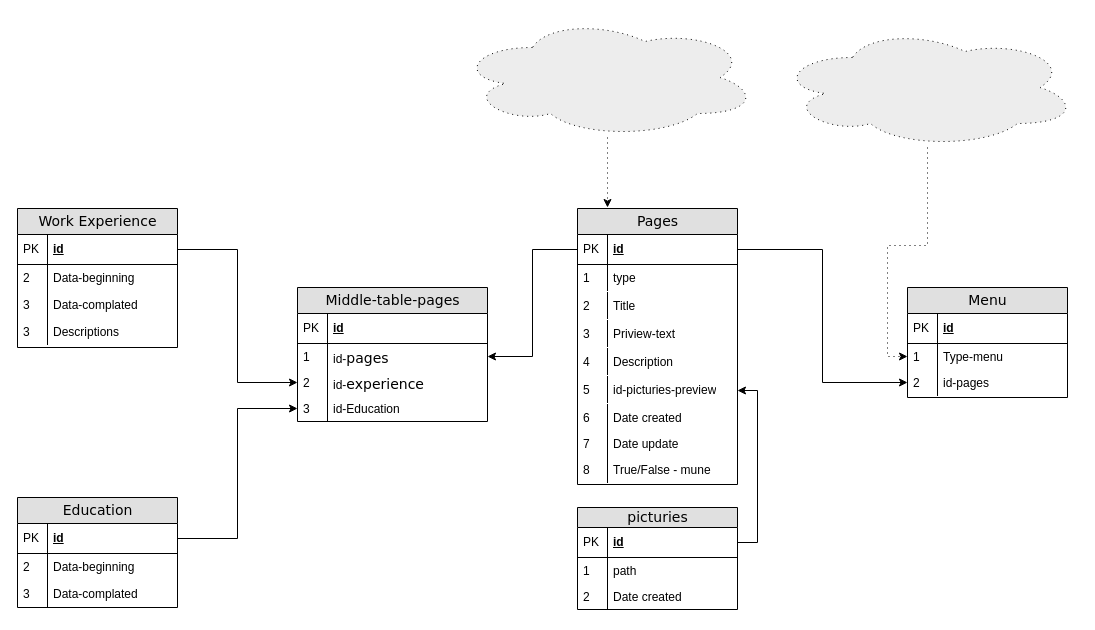
The diagram is 1095 pixels wide and 630 high, and some of its shapes have lost their labels. The centre of each missing label's shape, as x and y in pixels:
"Ия категорий Parents (родительская) Child (подкатегория)" goes at (x=927, y=87).
"Категории Страница, Запись/статья, Главная" goes at (x=607, y=77).
